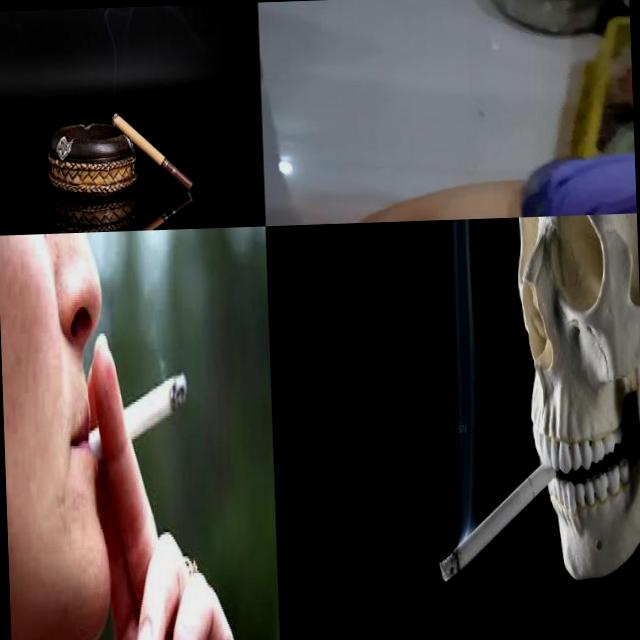smoke: (436, 459, 560, 583), (74, 372, 190, 469), (110, 109, 193, 193), (136, 189, 194, 230)
